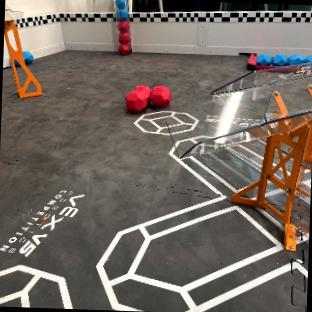V5_BLUE: (23, 51, 33, 63)
V5_RED: (125, 85, 171, 112), (118, 19, 131, 53)
